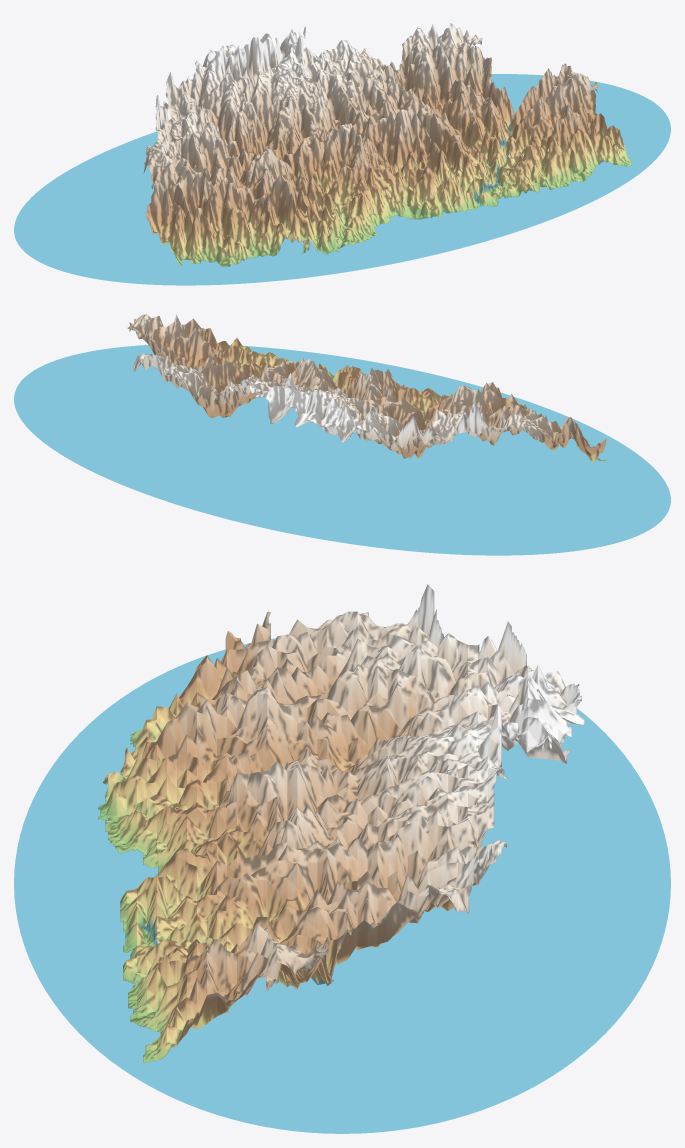
The model's file is BTN-terrain.glb.
3 views of the same model, one above another, from view 1: azimuth 30°, elevation 25°; view 2: azimuth 150°, elevation 25°; view 3: azimuth 270°, elevation 25° (orthographic). The views are drawn at different scales.
Visible parts, largest first — view 1: Relevo com hidrografia; view 2: Relevo com hidrografia; view 3: Relevo com hidrografia.
Boxes of the visible parts, left/top/right/bottom form: Relevo com hidrografia: left=14, top=23, right=670, bottom=285; Relevo com hidrografia: left=14, top=314, right=670, bottom=555; Relevo com hidrografia: left=14, top=584, right=670, bottom=1133.
Size of the model in its own units: 2.17 by 0.3728 by 1.2.
2 materials, 1 textured.
